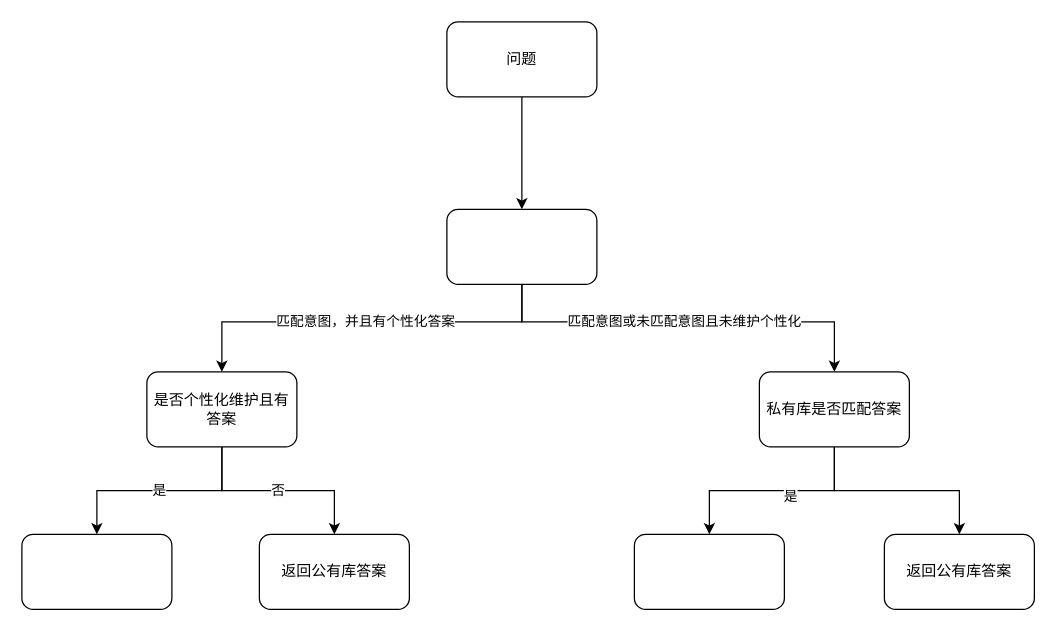
The diagram is 1056 pixels wide and 631 high, and some of its shapes have lost their labels. Each missing label, with the centre of its shape:
"智能AI服务" belongs at pixel 521 246.
"返回个性化答案" belongs at pixel 96 571.
"返回私有库答案" belongs at pixel 708 571.
